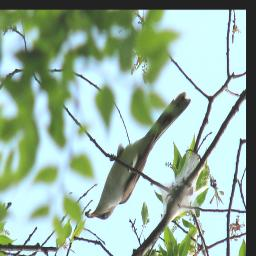Cuckoo: (87, 96, 191, 223)
